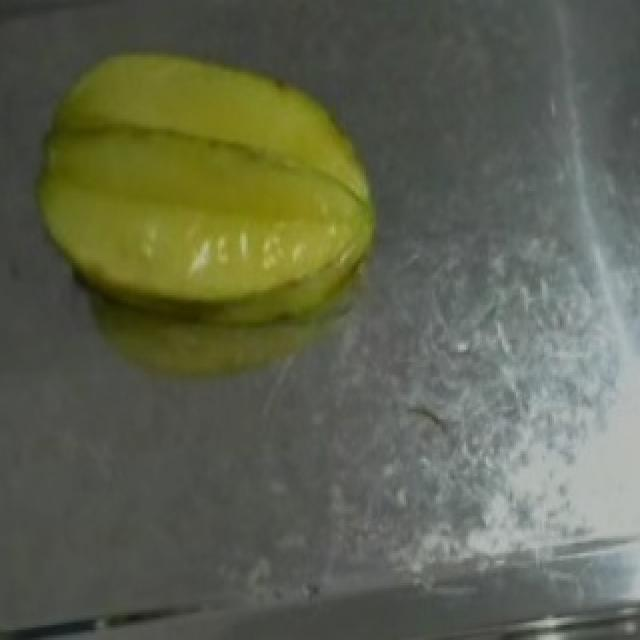fruit: (14, 12, 422, 360)
